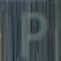Parking: (7, 1, 55, 53)
